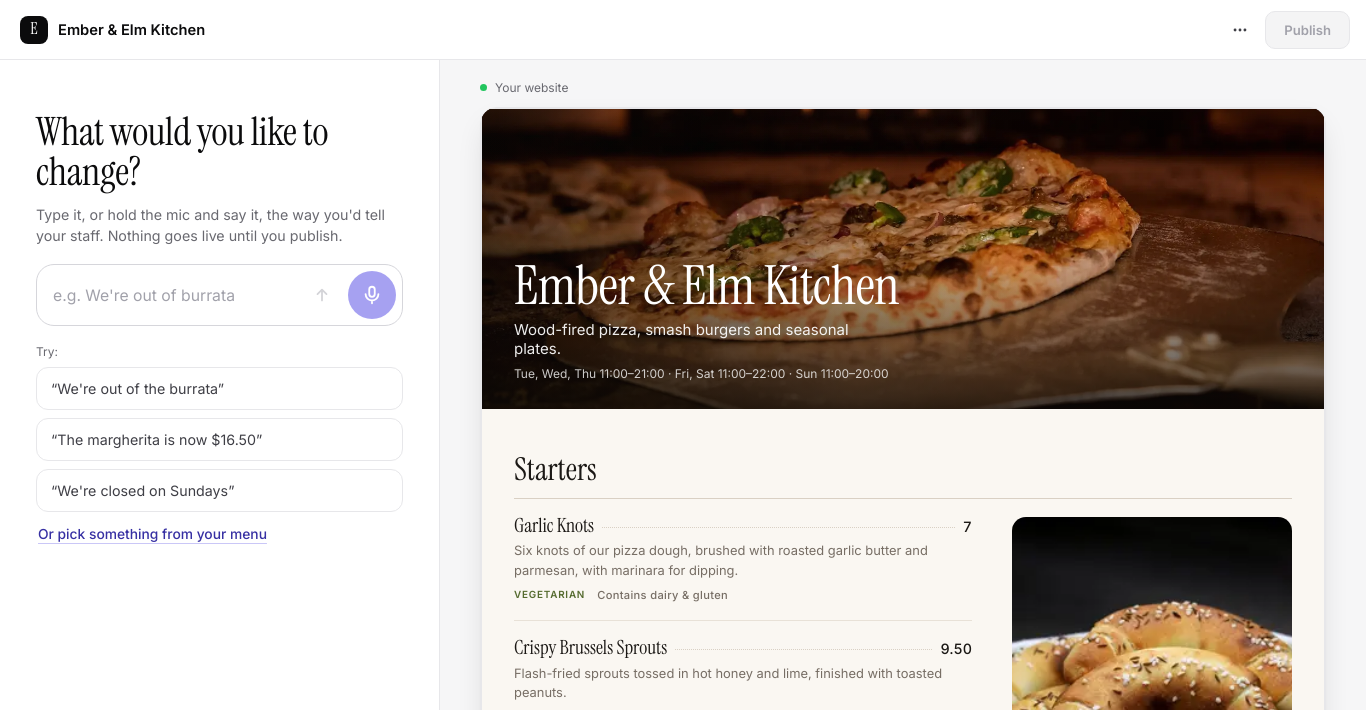
Test: click-to-target › clicking an item in the menu panel makes it the target and sends it with the command
This screenshot has width=1366, height=710.
Later steps or results of the test are not shown.
Click the button "Or pick something from your menu". click: (152, 534)
box: [36,520,269,548]
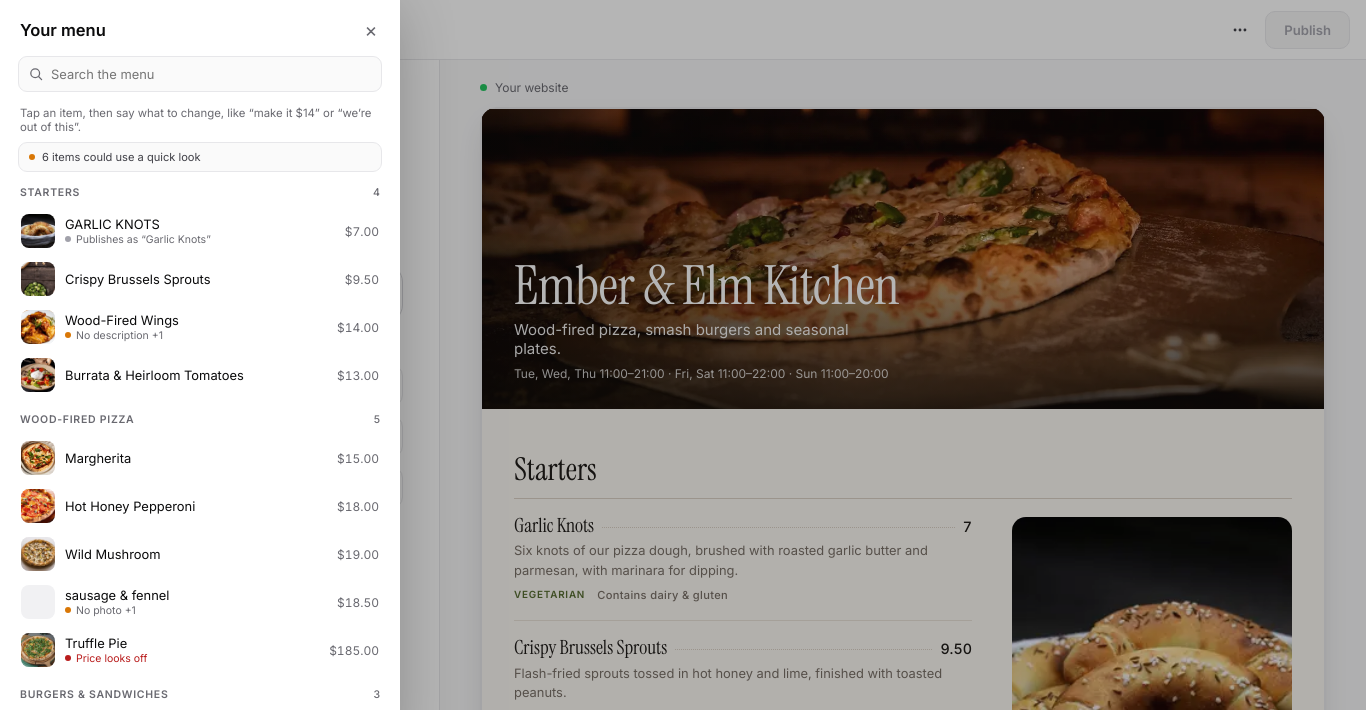
Click the button "Margherita $15.00". click: (38, 458)
box: [12,434,388,482]
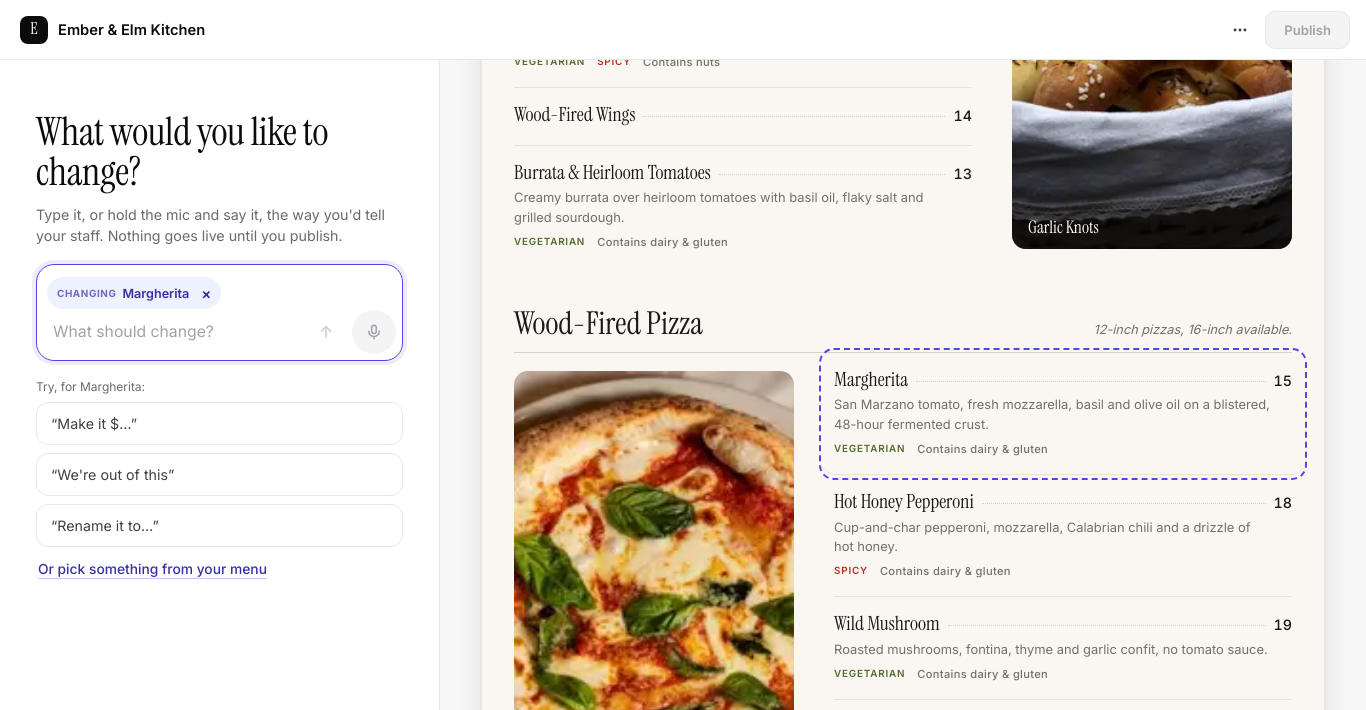
Click the button named "More". click: (1240, 30)
box: [1221,10,1259,48]
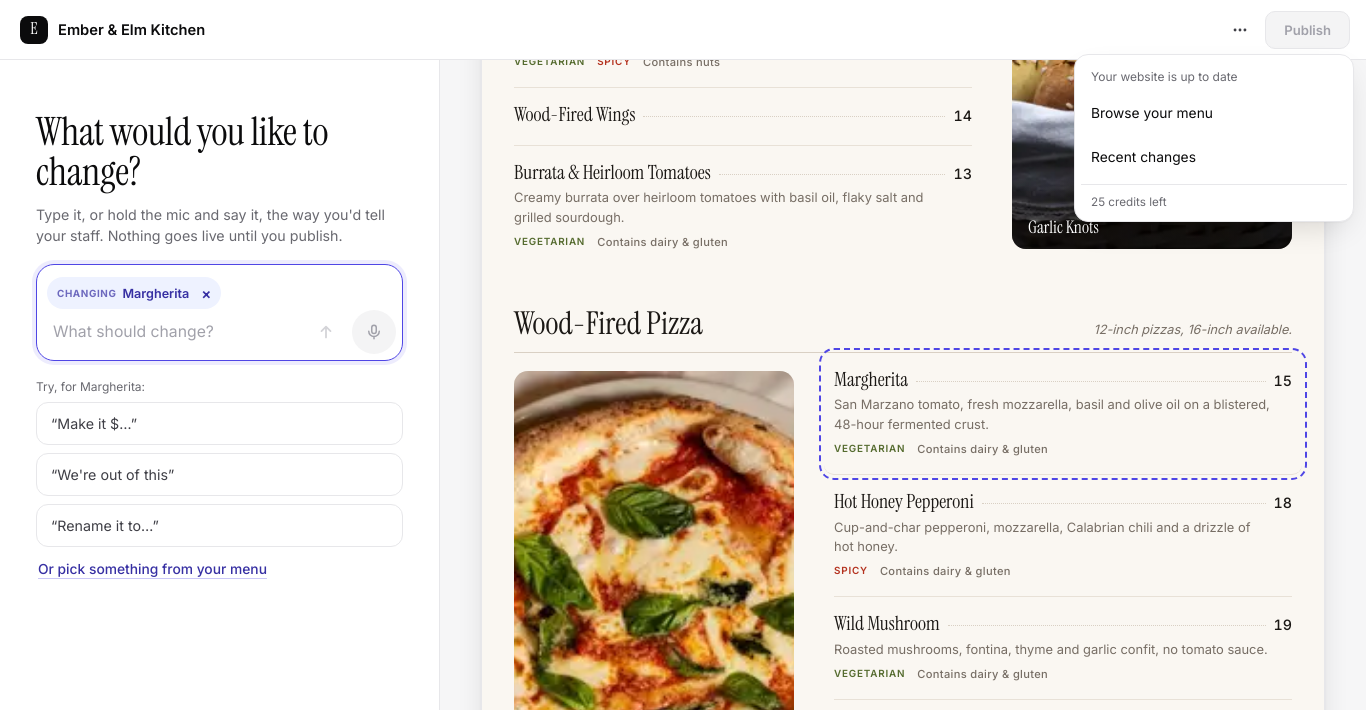
Click the menu item "Browse your menu". click: (1214, 113)
box: [1081,92,1347,134]
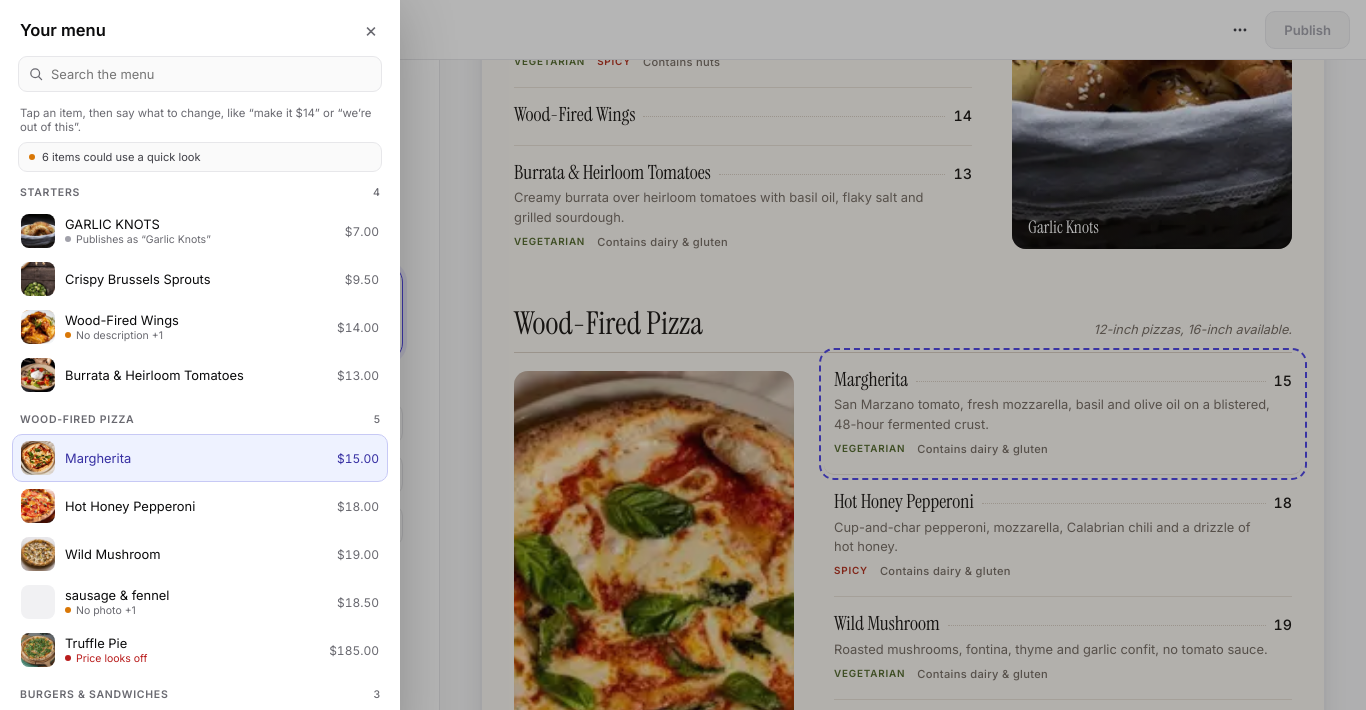
expect the button named "Clear selection Margherita" is shown: met, box [195,282,217,304]
